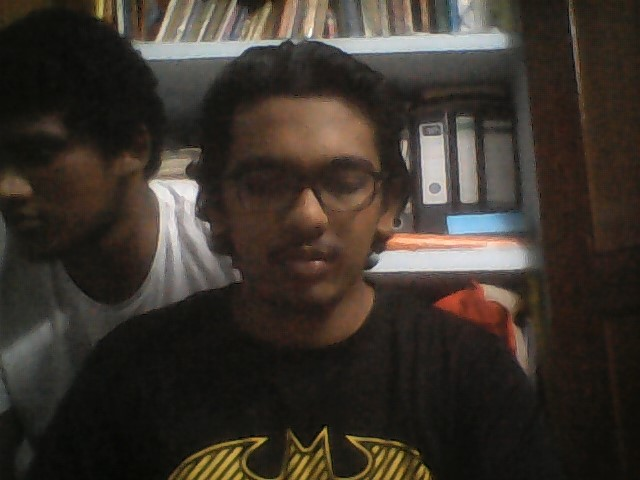person: (125, 40, 507, 452), (1, 7, 192, 380)
